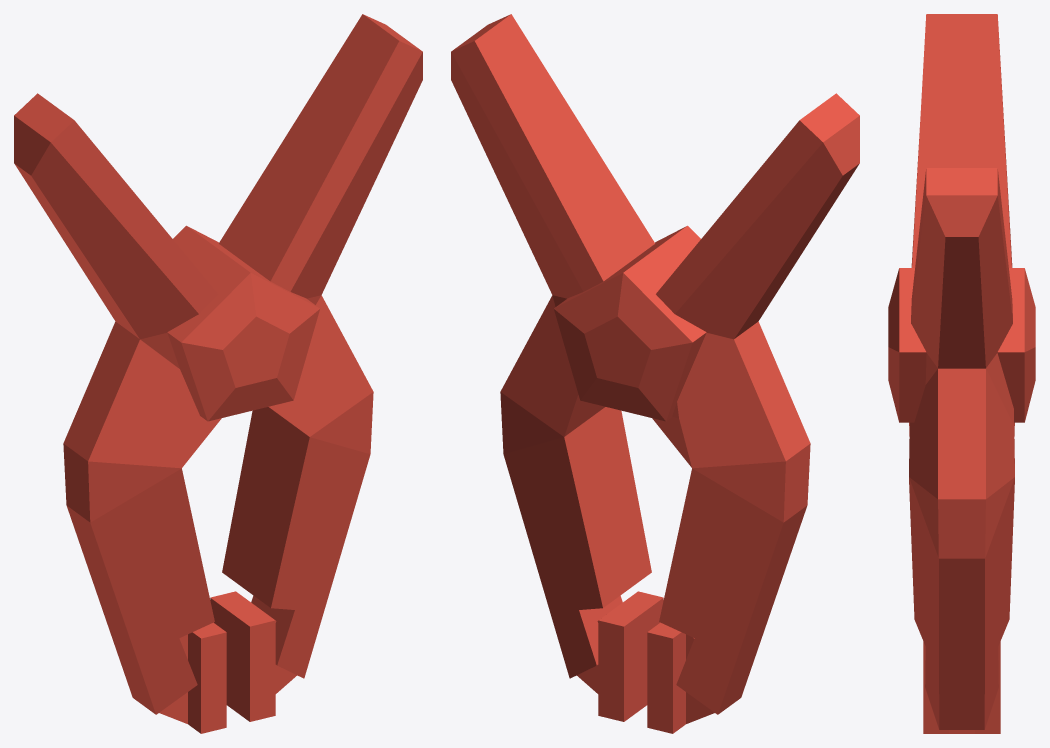
Rendered from SM_Clamp_Movie.fbx.
3 renders of one model, left to right at view 1: azimuth 30°, elevation 25°; view 2: azimuth 150°, elevation 25°; view 3: azimuth 270°, elevation 25°, orthographic. The views are drawn at different scales.
Parts seen in each view (by area): view 1: SM_Clamp_Movie; view 2: SM_Clamp_Movie; view 3: SM_Clamp_Movie.
Part boxes in pixels (x1,y1,x2,y2): SM_Clamp_Movie: [14, 14, 422, 733]; SM_Clamp_Movie: [451, 14, 859, 733]; SM_Clamp_Movie: [888, 14, 1035, 733].
Size of the model in its own units: 3.05 by 9.11 by 14.3.
